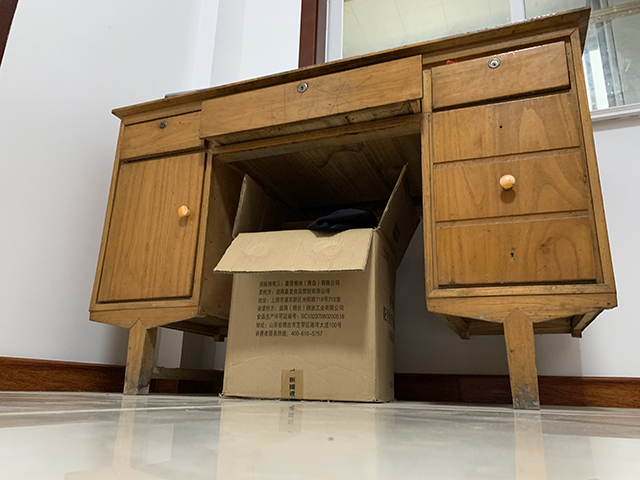table: (87, 1, 620, 411)
